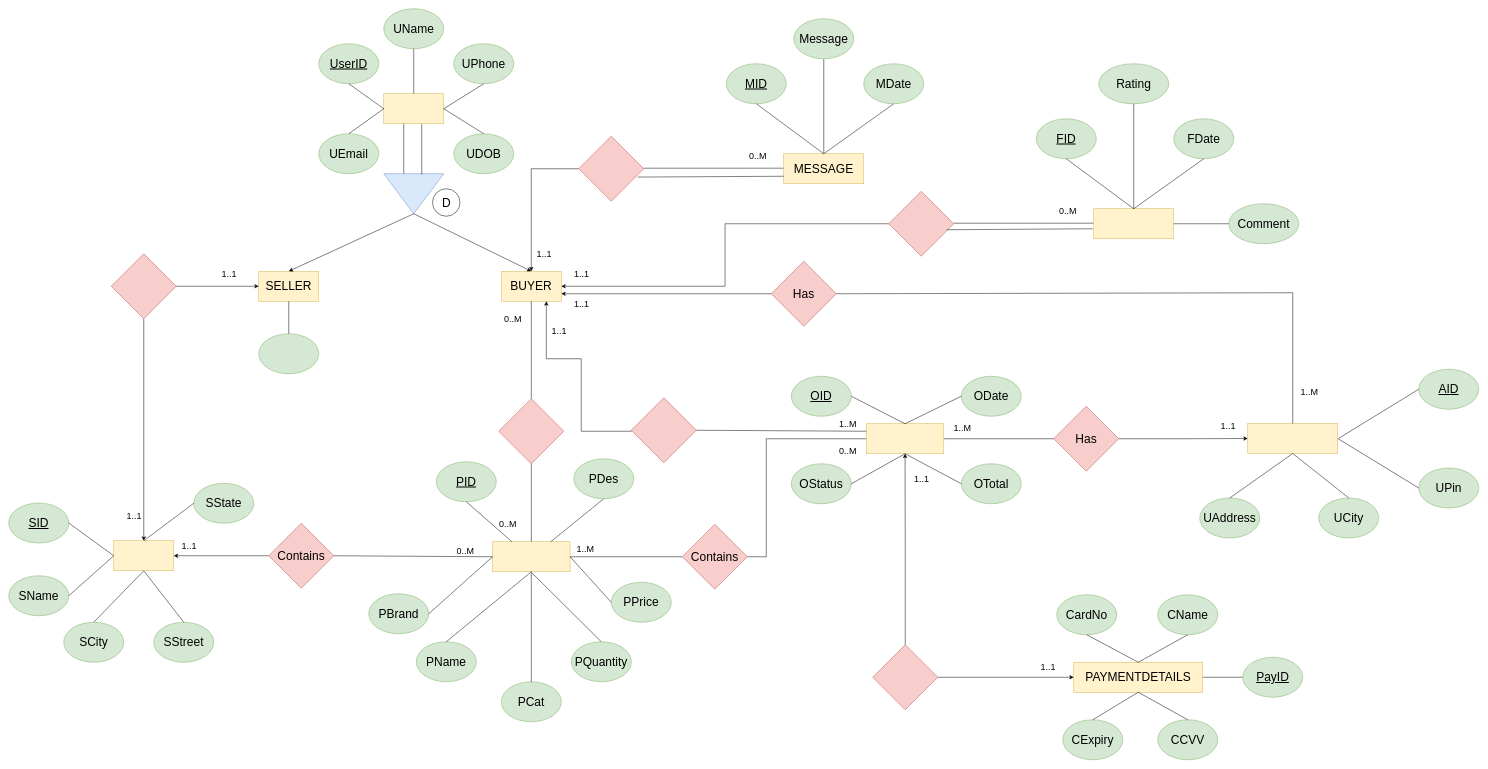
The diagram is 1488 pixels wide and 769 high, and some of its shapes have lost their labels. Each missing label, with the box of its shape:
Cart: (498, 398, 564, 464)
DELIVERY: (1247, 423, 1338, 454)
FEEDBACK: (1093, 208, 1174, 239)
IS A: (383, 173, 444, 214)
Leaves: (578, 136, 644, 201)
Manage: (111, 253, 176, 319)
ORDERS: (866, 423, 944, 454)
Payment: (872, 644, 938, 710)
Places: (631, 397, 696, 463)
PRODUCTS: (492, 541, 570, 572)
Provides: (888, 191, 954, 256)
STORE: (113, 540, 174, 571)
SType: (258, 333, 319, 374)
USER: (383, 93, 444, 124)
